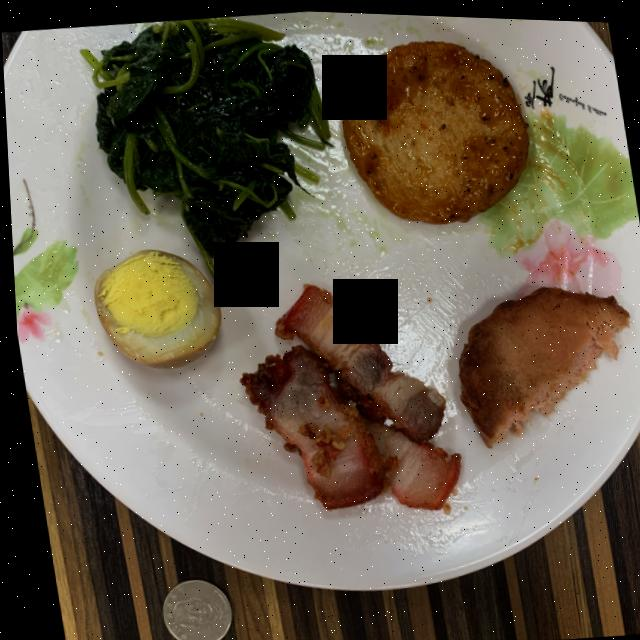Spam: (454, 282, 626, 443)
coin: (156, 578, 225, 640)
fish cake: (341, 37, 527, 220)
red grilled pork: (236, 282, 456, 507)
soy egg: (91, 249, 218, 367)
sweet potato leaves: (80, 15, 328, 277)
